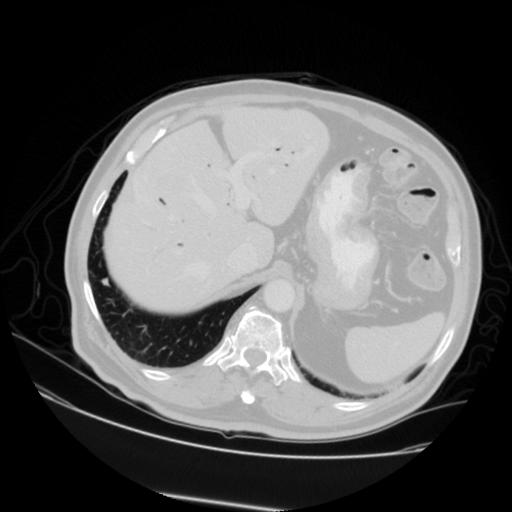nodule: (98, 274, 114, 290)
